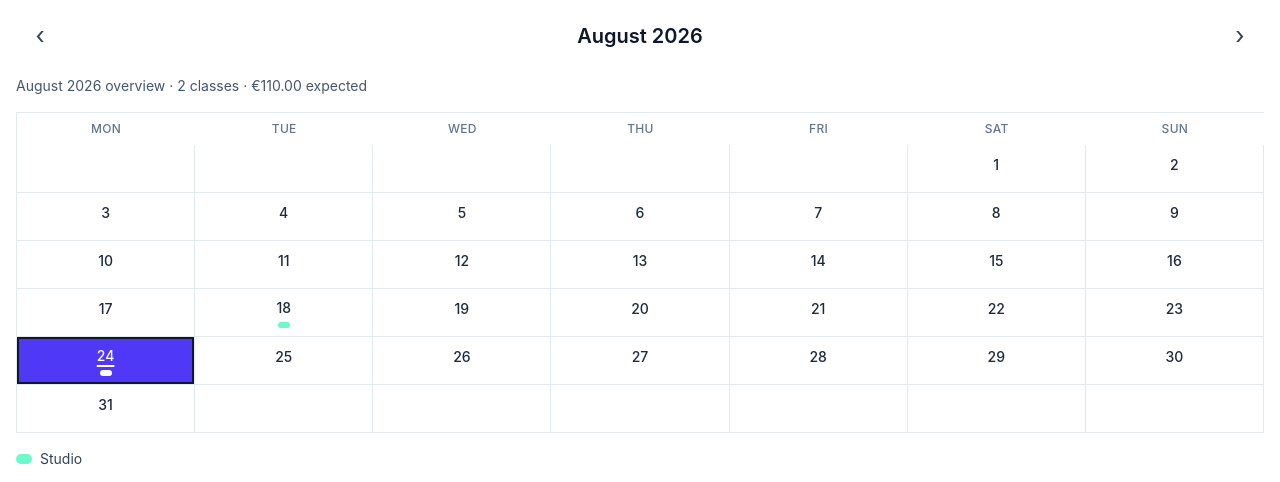
Test: CalendarTab mobile presentation › shows the empty selected-day state while retaining month navigation
The image size is (1280, 482).
Click the button "23". click: click(1175, 313)
box: [1086,289,1264,337]
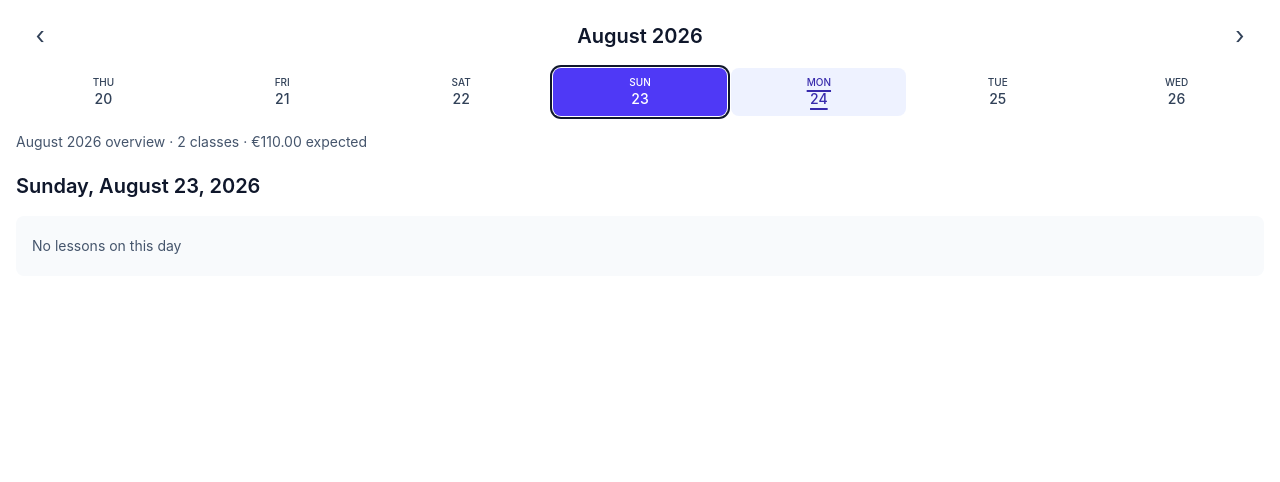
Expected: the button "‹" is shown, [16,12,64,60]
Now the text "No lessons on this day" is shown, box [16,216,1264,276]
